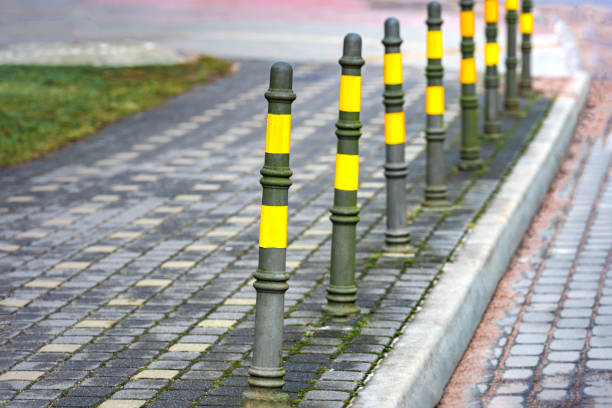bollard: (239, 62, 301, 402), (318, 32, 368, 328), (378, 15, 415, 260), (421, 3, 453, 214)
